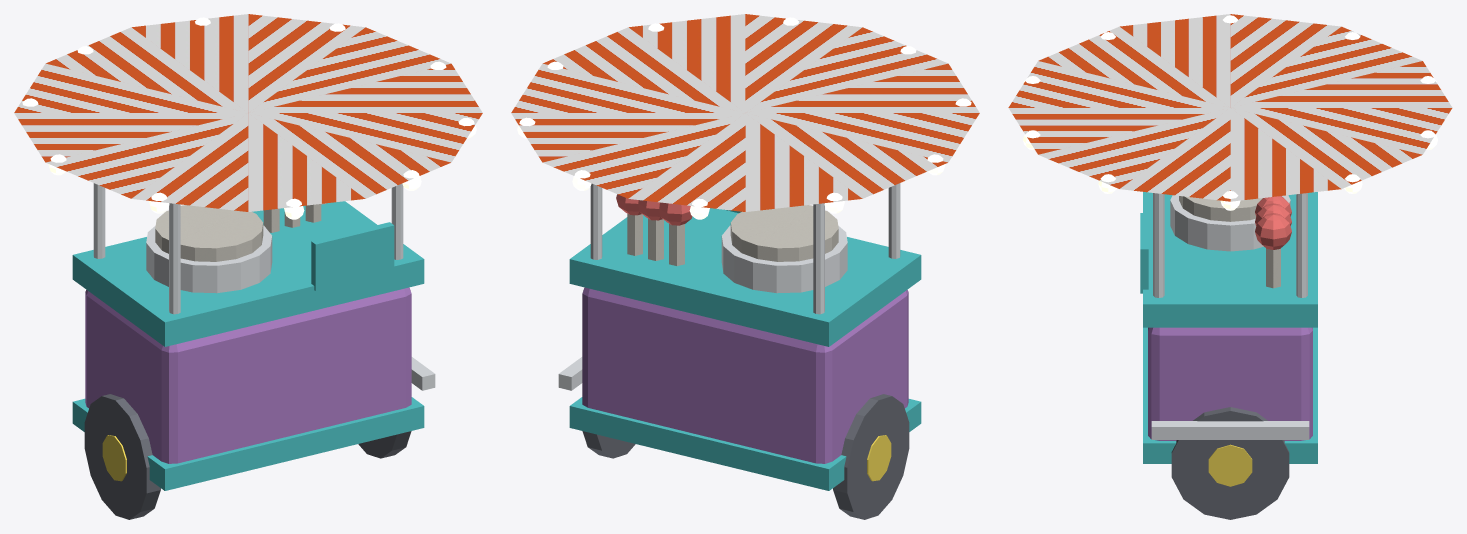
Rendered from theme-park-rides-and-coasters-theme-park-rides-and-coa-5bc8c8e6__28679.glb.
3 renders of one model, left to right at view 1: azimuth 30°, elevation 25°; view 2: azimuth 150°, elevation 25°; view 3: azimuth 270°, elevation 25°, orthographic. The views are drawn at different scales.
Visible parts, largest first — view 1: theme-park-rides-and-coasters-candy-floss-cart; view 2: theme-park-rides-and-coasters-candy-floss-cart; view 3: theme-park-rides-and-coasters-candy-floss-cart.
Boxes of the visible parts, x1,y1,x2,y2 form: theme-park-rides-and-coasters-candy-floss-cart: [14, 14, 482, 519]; theme-park-rides-and-coasters-candy-floss-cart: [511, 14, 979, 519]; theme-park-rides-and-coasters-candy-floss-cart: [1008, 14, 1452, 519].
Bounding box in the file's own units: 3.1 × 3.3 × 3.1.
Materials: 9 (2 with a texture image).
